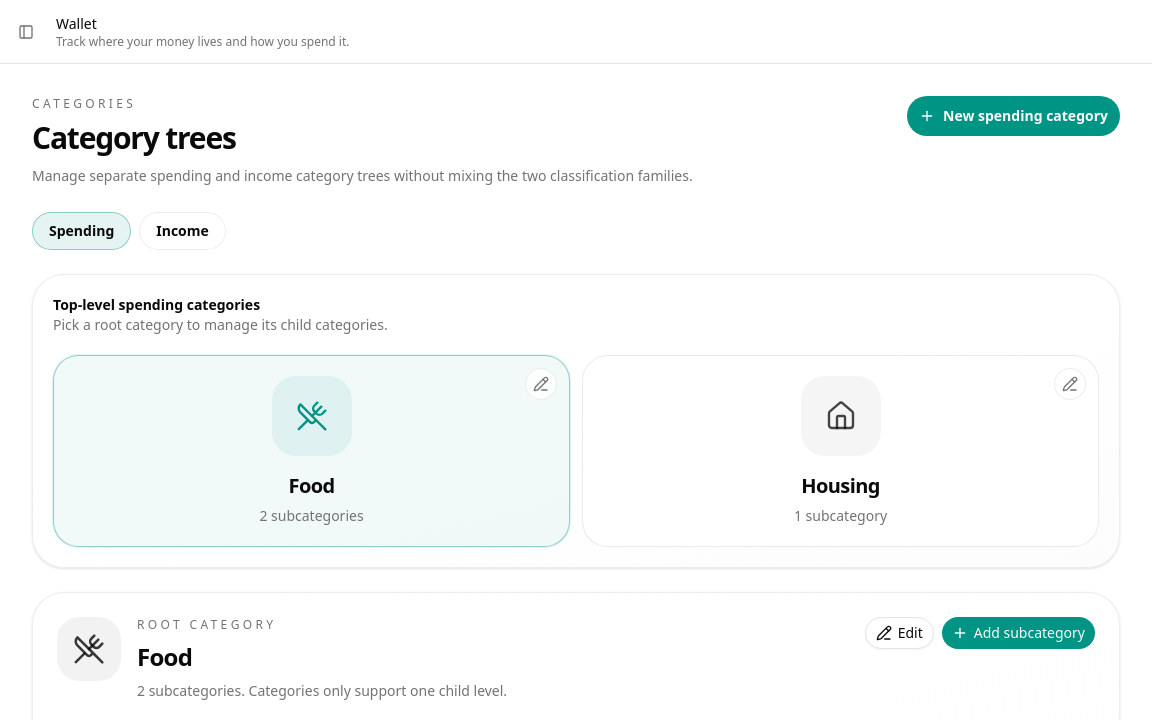
it: categories route › shows an invalid-hierarchy error inline when reparenting a populated spending root
Click the button with aria-label "Edit Food".
click(899, 633)  # box [865,617,934,649]
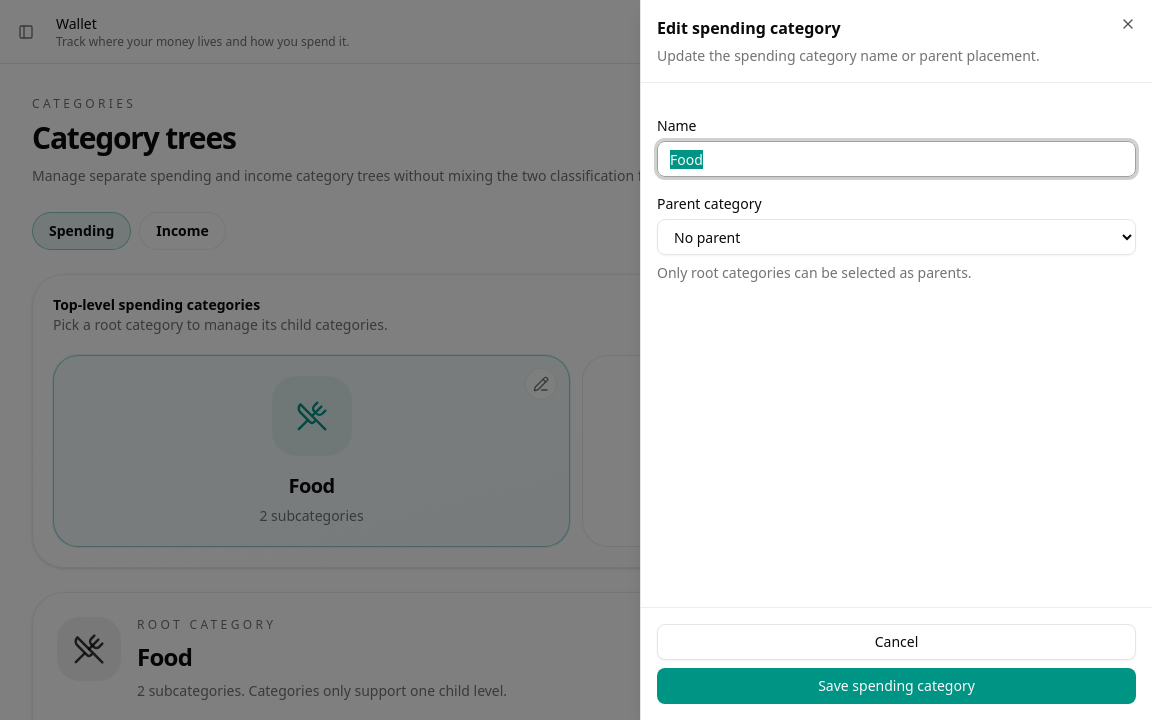
Select "Housing" in the dropdown labelled "Parent category" at (896, 237), box [657,219,1136,255]
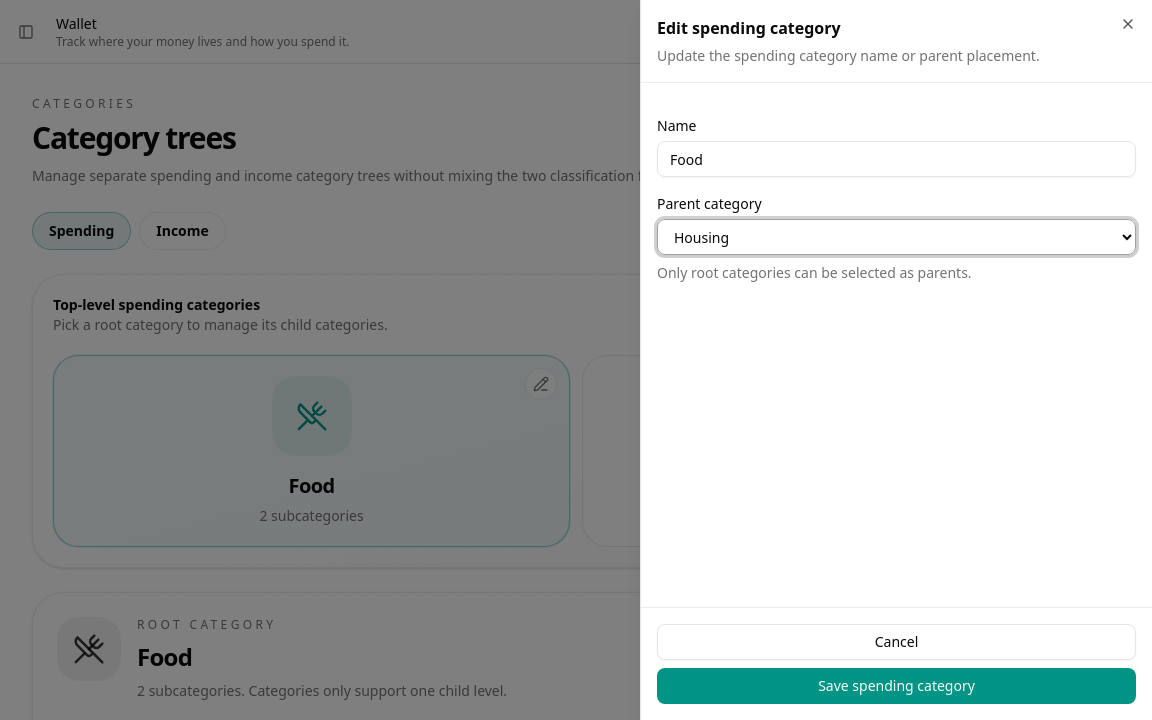
Click the button "Save spending category".
click(896, 686)  # box [657,668,1136,704]
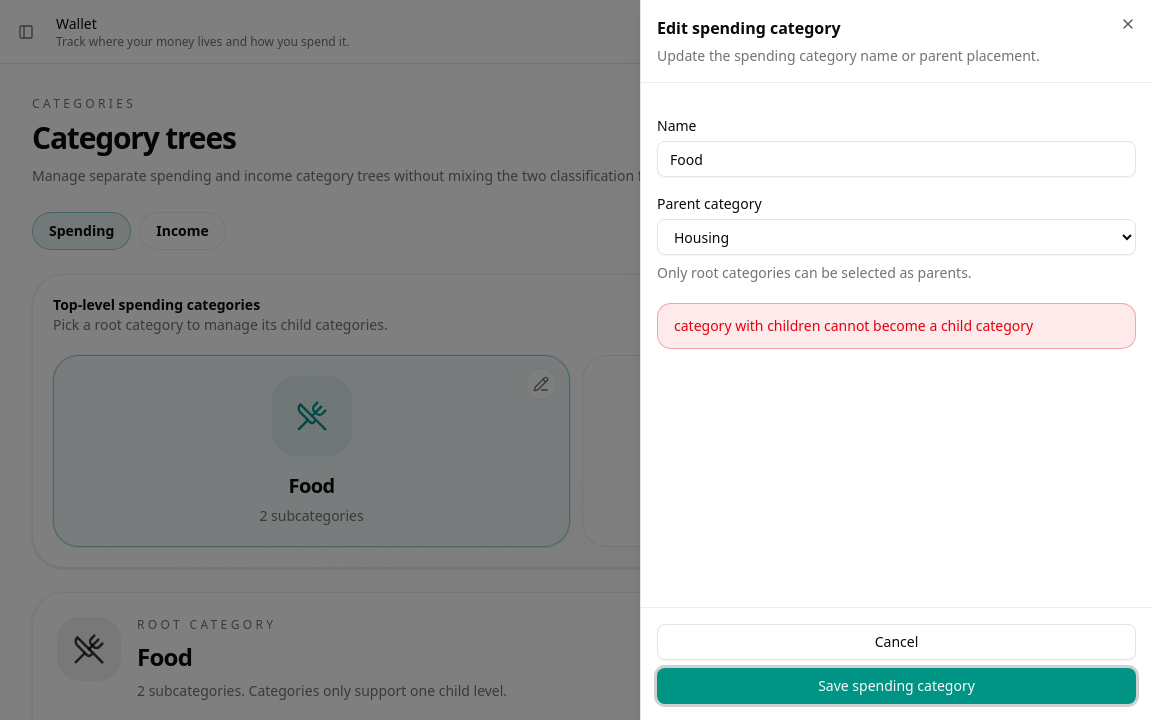
Result: the text "category with children cannot become a child category" is shown at [657,303,1136,349]
